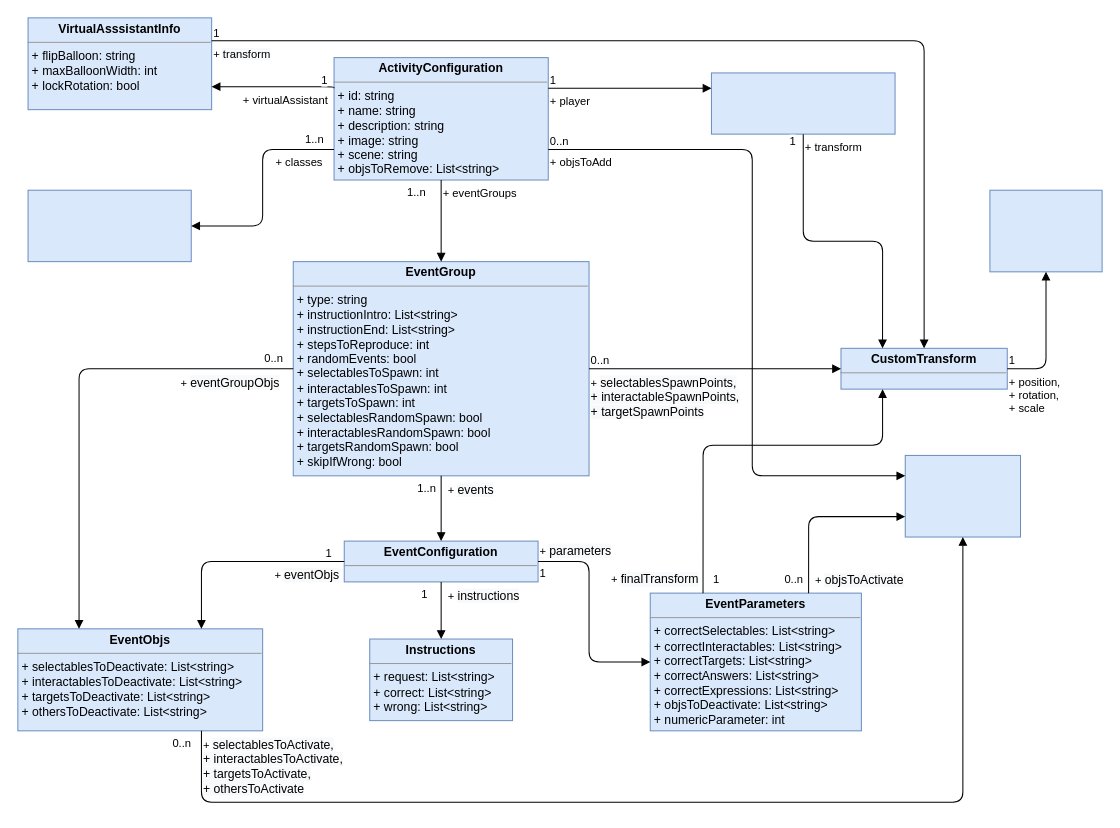
Image size: 1120x828. Some labels were removed from this diagram. The centre of each missing label's shape, as x and y in pixels:
CustomVector3 + x: float + y: float + z: float: [1045,230]
PlayerInfo + groundOffset: int: [802,103]
SceneObj + prefab: string + name: string + text: string: [962,495]
UserClass + year: int + instituteType: string: [109,225]
